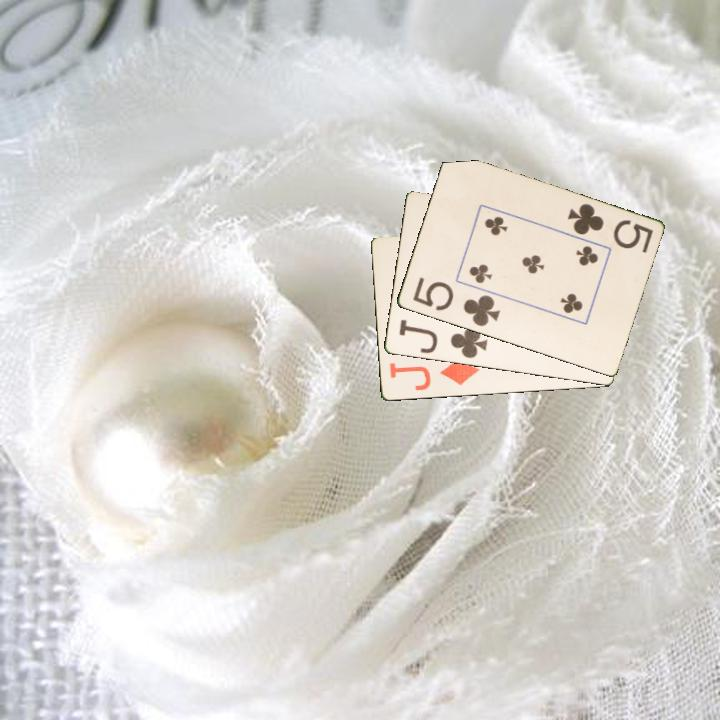5c: (409, 274, 503, 330), (564, 200, 656, 256)
Jc: (395, 316, 490, 362)
Jd: (386, 354, 482, 394)
